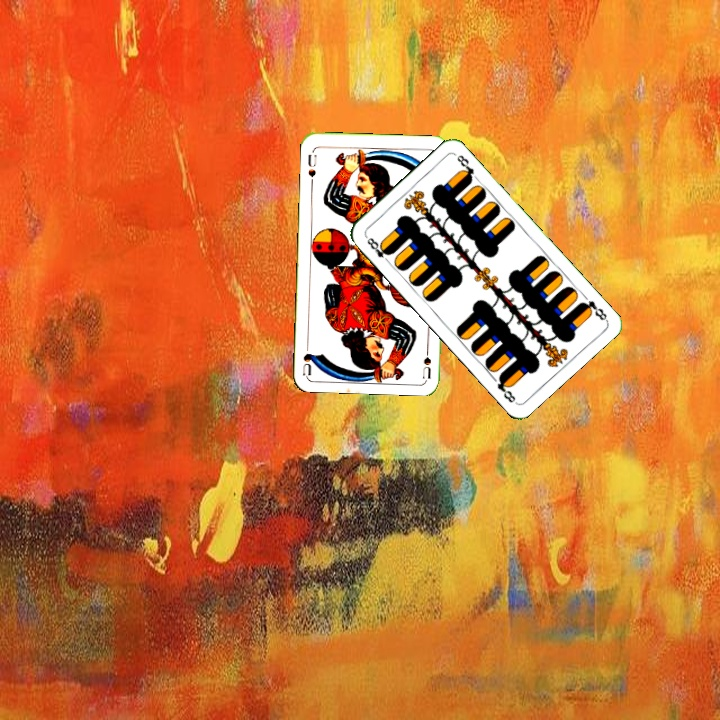E8: (362, 232, 393, 266), (576, 296, 609, 323)
SU: (419, 339, 434, 380), (304, 150, 319, 187)
